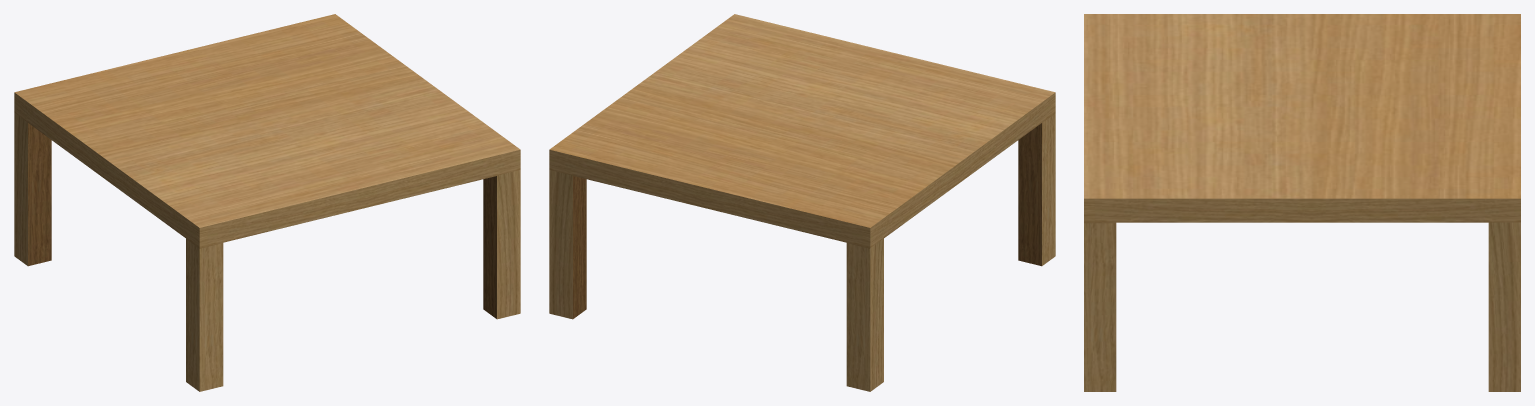
Rendered from table-oak-square.glb.
3 views of the same model, side by side, from view 1: azimuth 30°, elevation 25°; view 2: azimuth 150°, elevation 25°; view 3: azimuth 270°, elevation 25° (orthographic). The views are drawn at different scales.
Visible parts, largest first — view 1: table; view 2: table; view 3: table.
Part boxes in pixels (x1,y1,x2,y2): table: [14, 14, 520, 391]; table: [549, 14, 1055, 391]; table: [1084, 14, 1520, 391].
Size of the model in its own units: 1.64 by 0.8002 by 1.64.
Materials: 1 (1 with a texture image).
